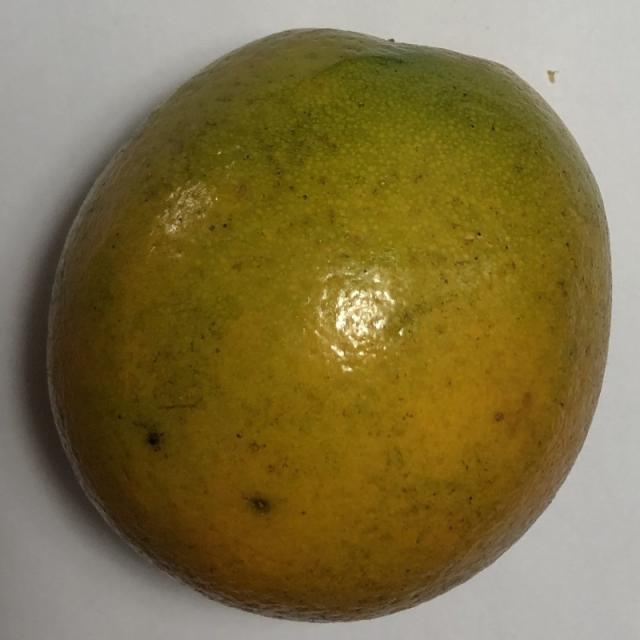blackspot: (26, 12, 628, 631)
